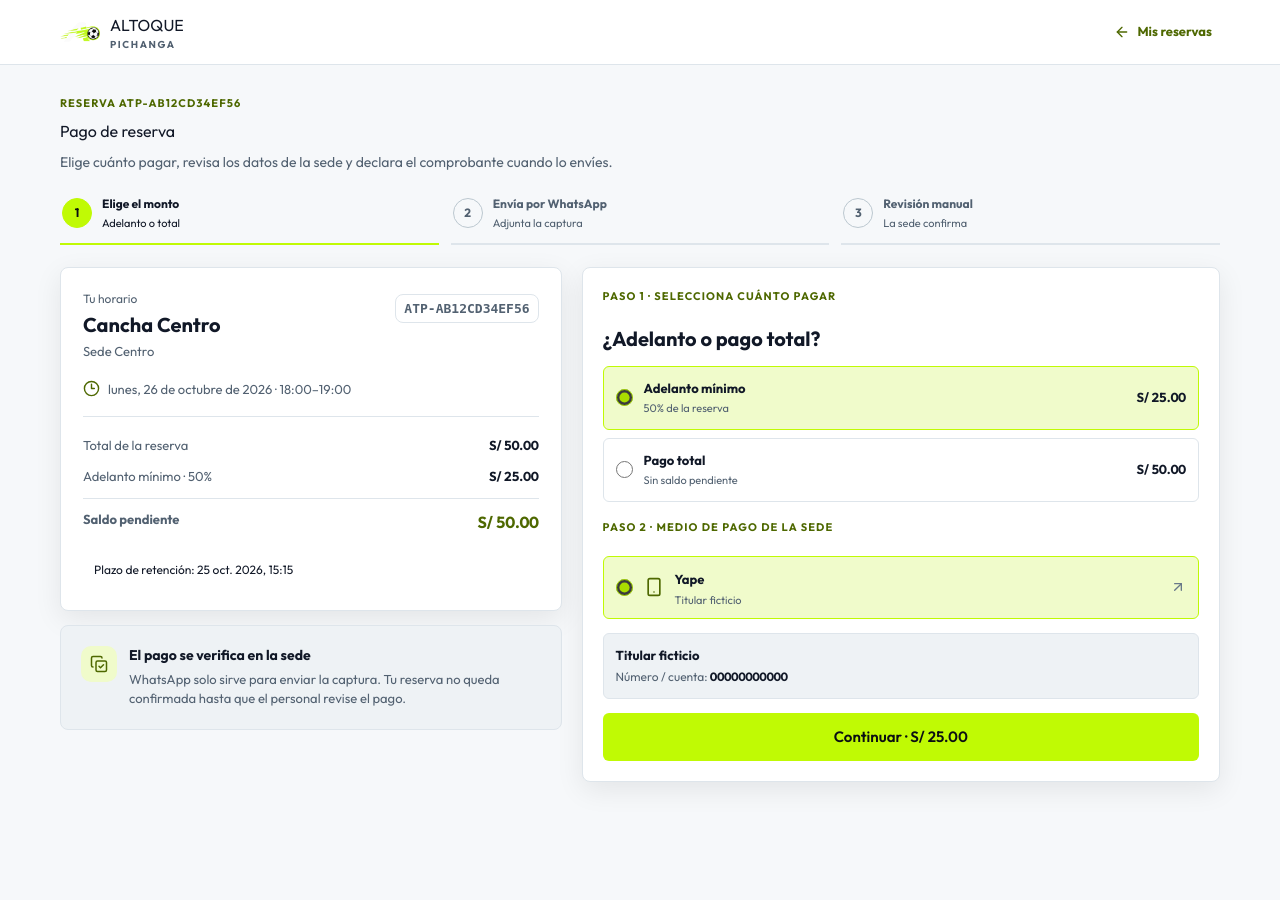
Test: flujo de pago del jugador › calcula el importe en servidor, muestra WhatsApp sin abrirlo y declara para revisión manual
Click the radio button labelled "Pago total Sin saldo pendiente S/ 50.00". click: [624, 470]
box: left=616, top=461, right=633, bottom=478
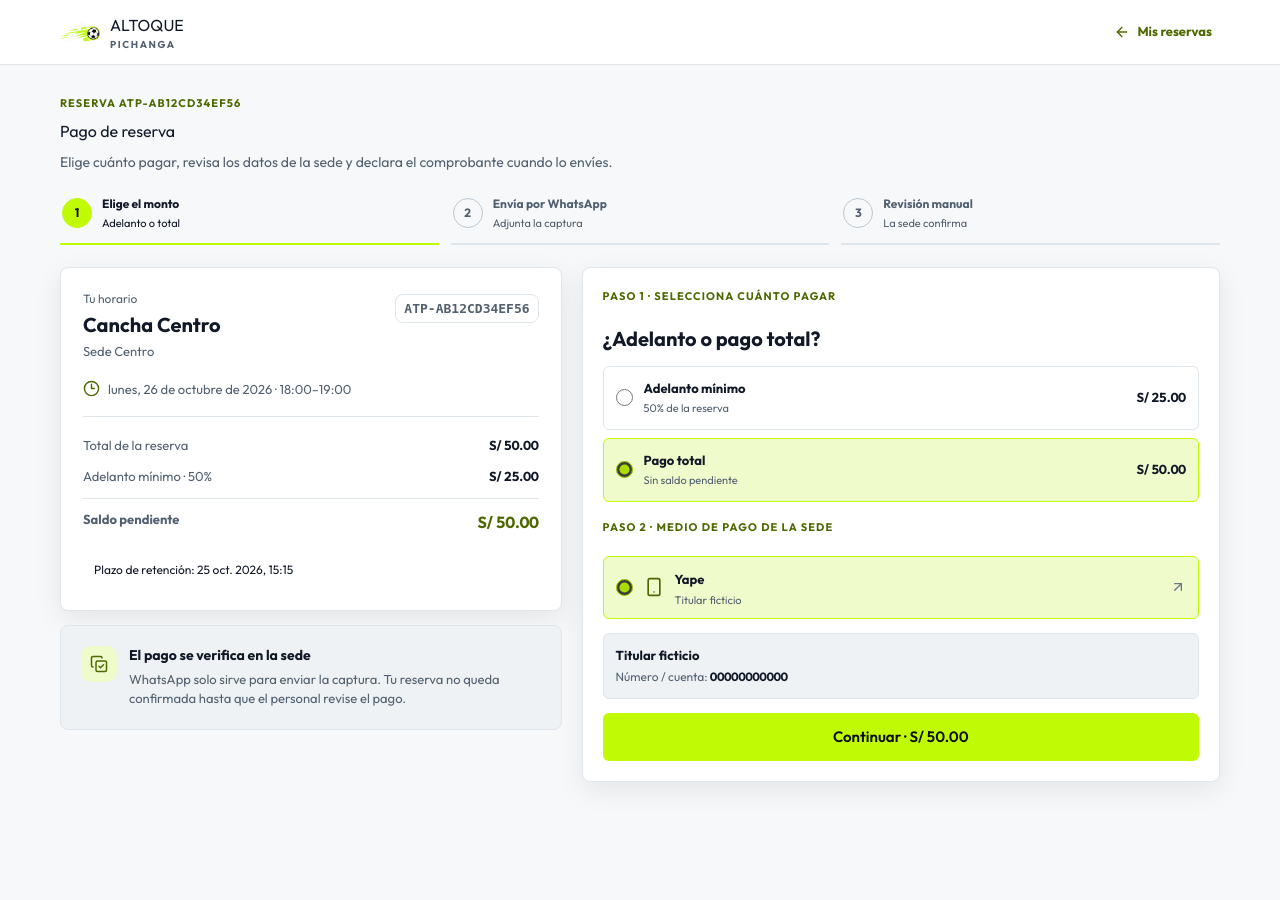
Click the button "Continuar · S/ 50.00". click: [901, 737]
box: left=603, top=713, right=1199, bottom=761
(page scrolled)
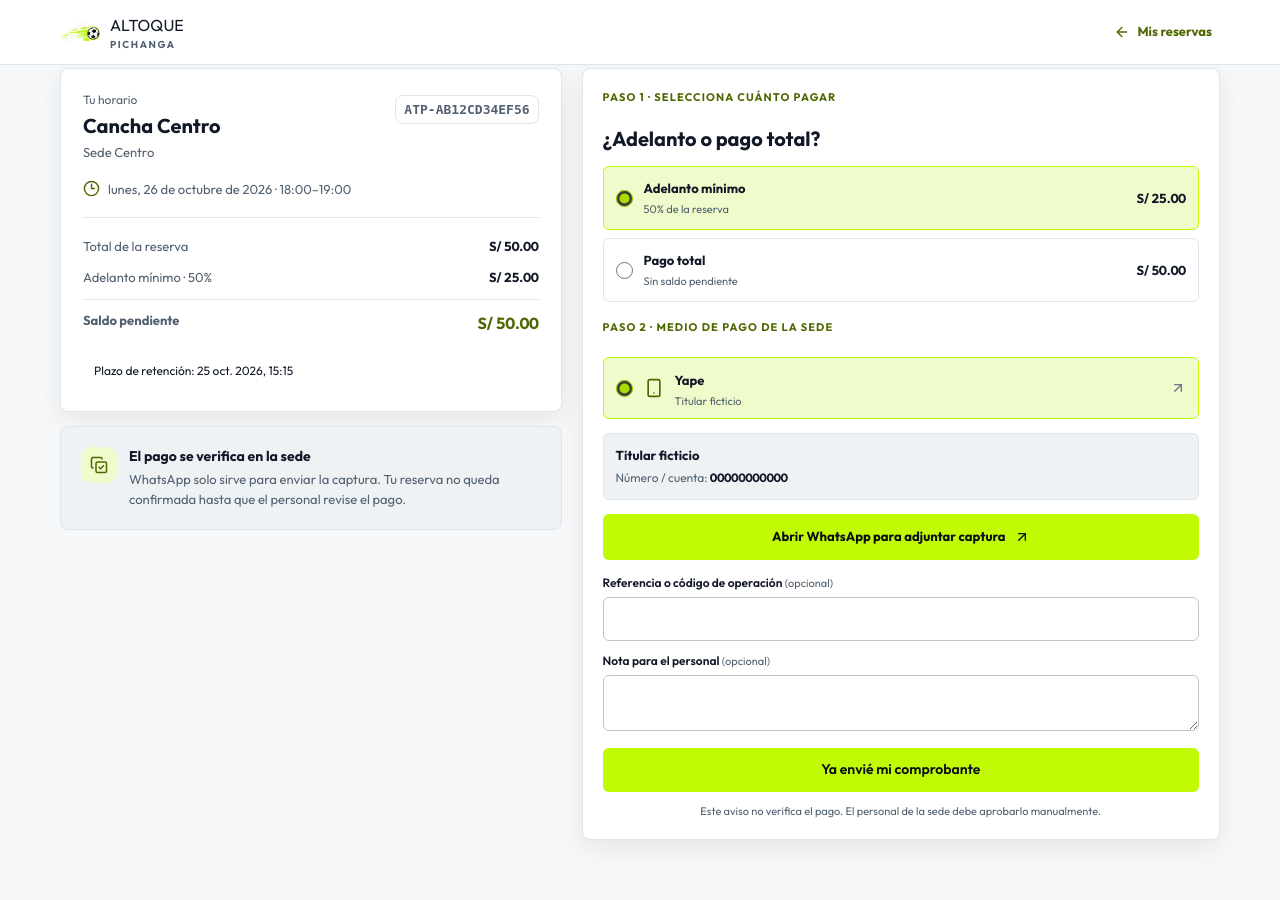
Type "E2E-REF" into the field labelled "Referencia o código de operación (opcional)". click: [901, 619]
box: left=603, top=597, right=1199, bottom=641
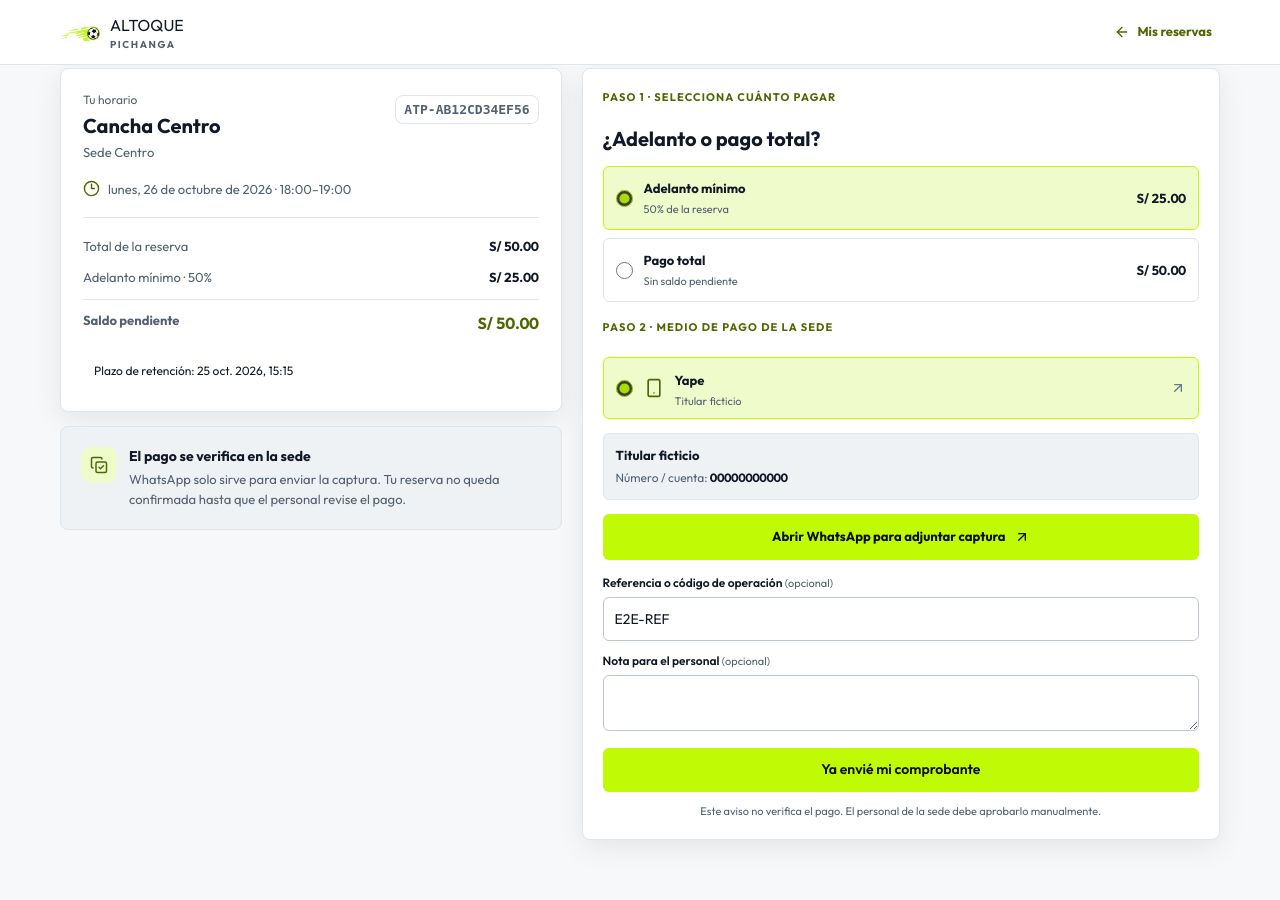
Submit the form with class "declaracion-form", box left=603, top=574, right=1199, bottom=819
(page scrolled)
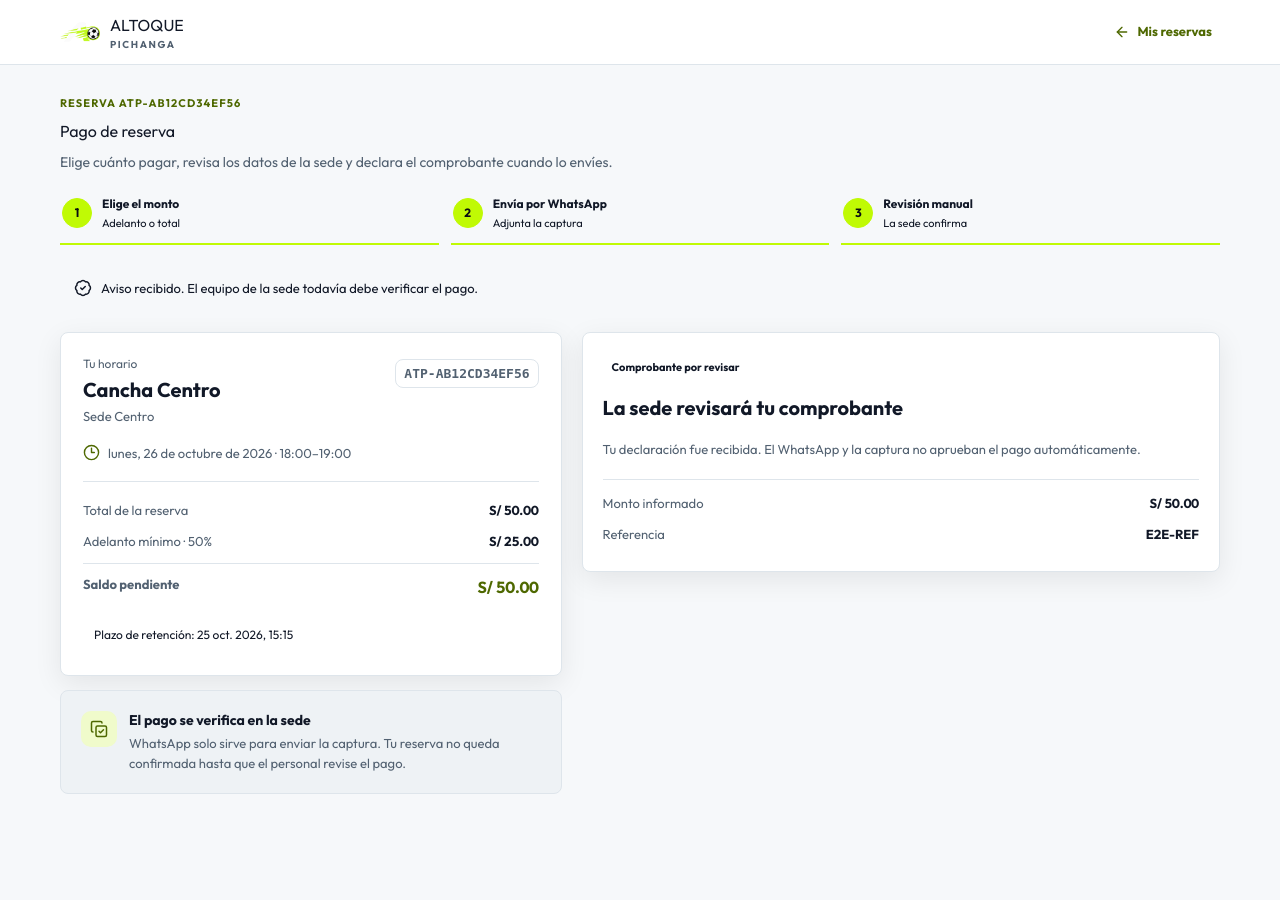
Expected: the text "La sede revisará tu comprobante" is shown, left=603, top=395, right=903, bottom=420
Expected: the text "no aprueban el pago automáticamente" is shown, left=603, top=441, right=1141, bottom=457
